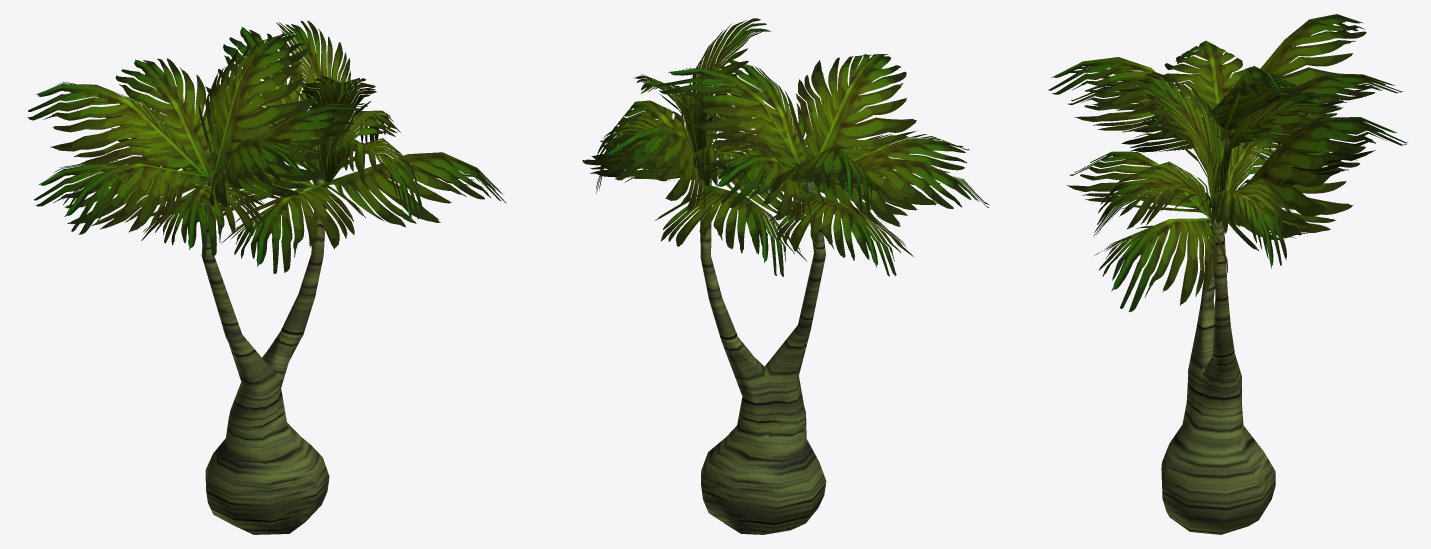
File: strange-tree-young.glb
3 renders of one model, left to right at view 1: azimuth 30°, elevation 25°; view 2: azimuth 150°, elevation 25°; view 3: azimuth 270°, elevation 25°, orthographic.
Bounding box in the file's own units: 1.49 × 1.51 × 1.13.
Materials: 1 (1 with a texture image).
